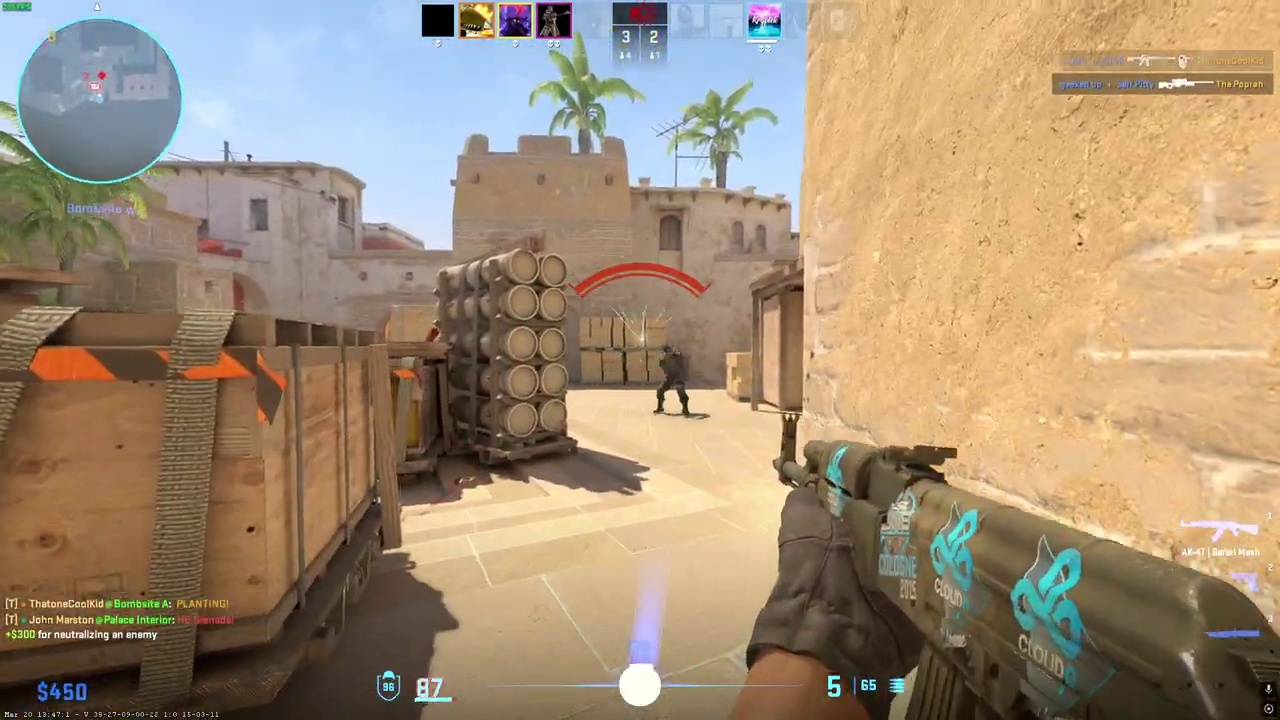CT: (655, 345, 688, 416)
